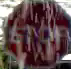Stop: (5, 0, 70, 68)
